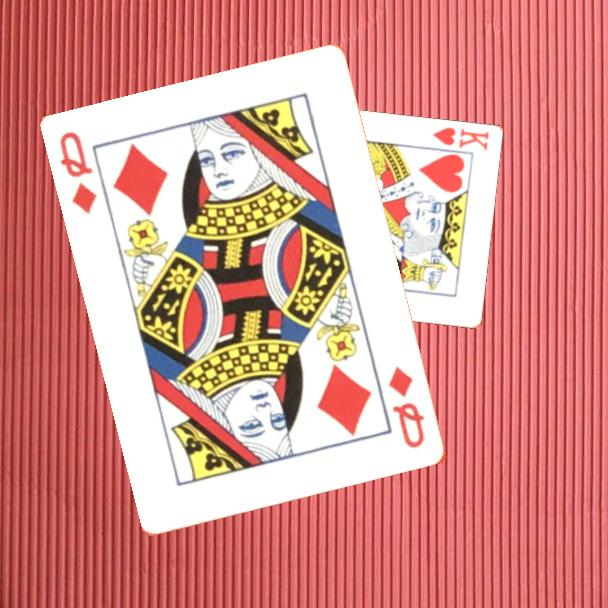d12: (57, 128, 101, 218), (385, 363, 428, 452)
h13: (429, 124, 491, 154)
